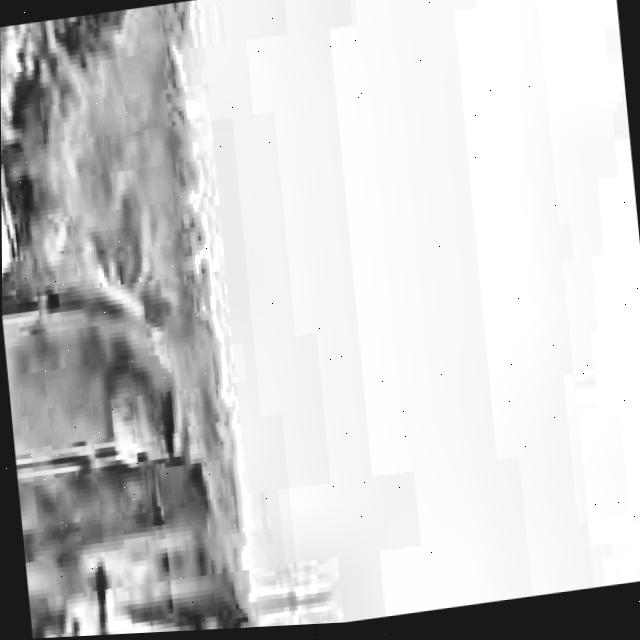Gerbong: (1, 138, 384, 640)
